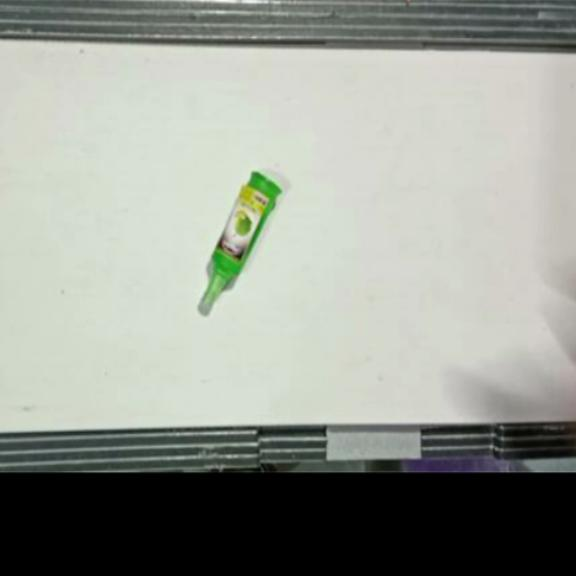Plastik: (199, 172, 284, 308)
